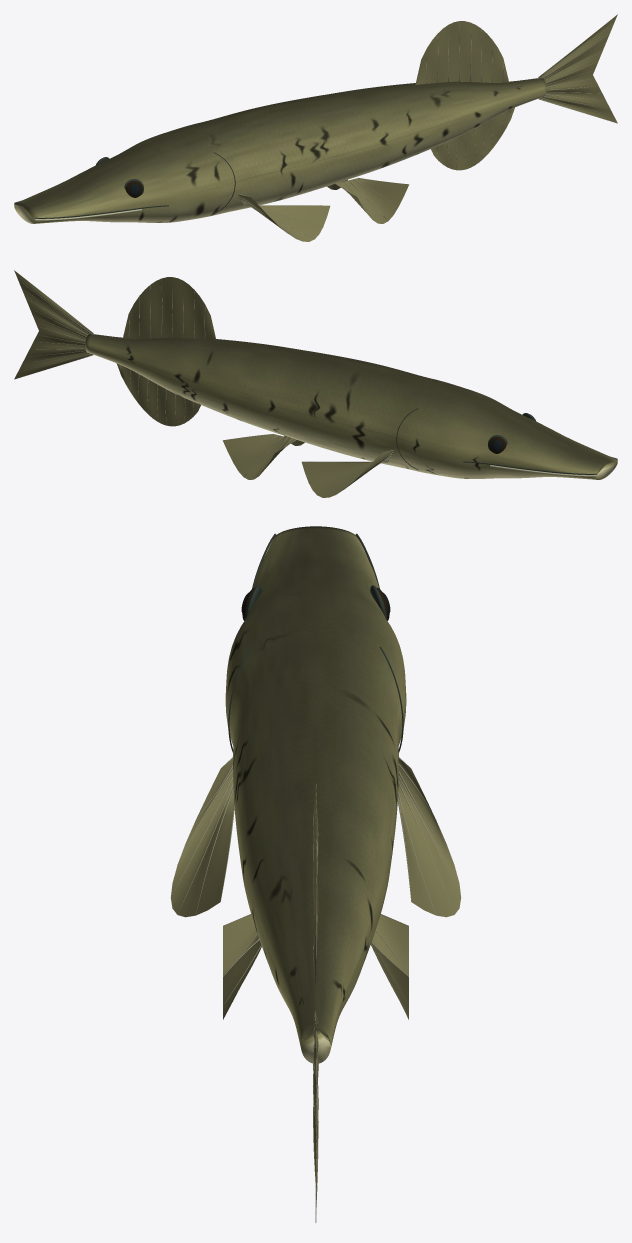
The model's file is muskie.glb.
3 renders of one model, top to bottom at view 1: azimuth 30°, elevation 25°; view 2: azimuth 150°, elevation 25°; view 3: azimuth 270°, elevation 25°, orthographic. The views are drawn at different scales.
Parts seen in each view (by area): view 1: muskie specimen.001; view 2: muskie specimen.001; view 3: muskie specimen.001.
Part boxes in pixels (bbox=[...]): muskie specimen.001: bbox=[14, 14, 617, 241]; muskie specimen.001: bbox=[14, 270, 617, 497]; muskie specimen.001: bbox=[170, 526, 461, 1222].
Bounding box in the file's own units: 2.61 × 0.6808 × 0.554.
7 materials, 3 textured.
